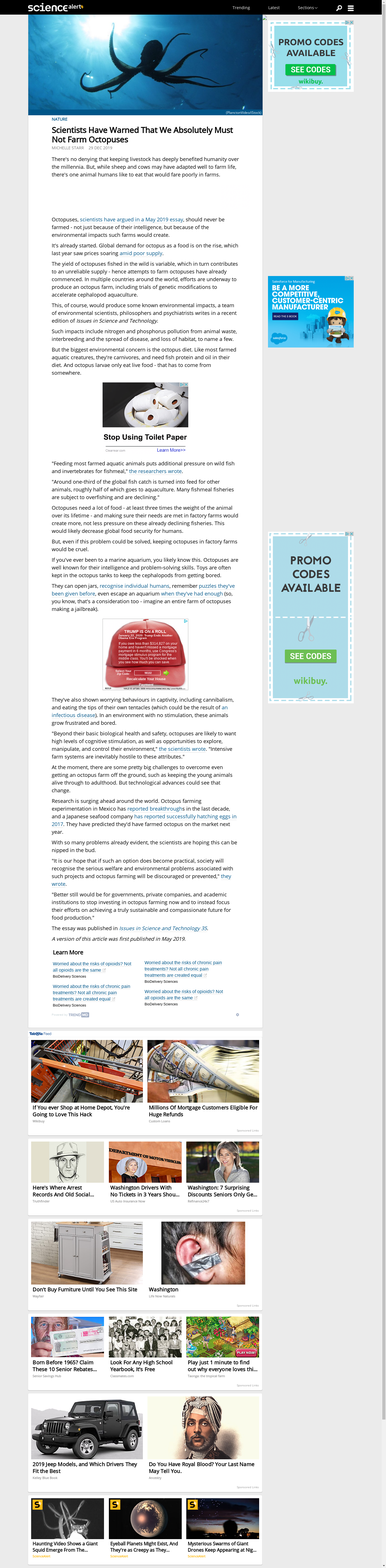fake_button: (283, 646, 338, 669), (284, 62, 338, 78), (271, 311, 302, 323)
